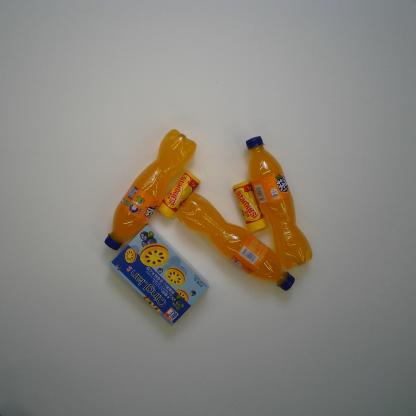Candy: (157, 170, 201, 220), (232, 180, 267, 233)
Dessert: (107, 224, 210, 327)
Drink: (175, 192, 295, 292), (104, 128, 197, 252), (245, 135, 313, 270)
